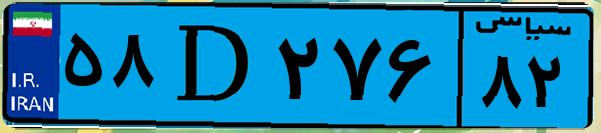2: (270, 28, 330, 110), (525, 38, 570, 115)
5: (57, 26, 110, 100)
6: (385, 28, 445, 110)
7: (330, 28, 385, 110)
8: (475, 38, 525, 113), (110, 28, 158, 98)
D: (158, 12, 270, 120)
